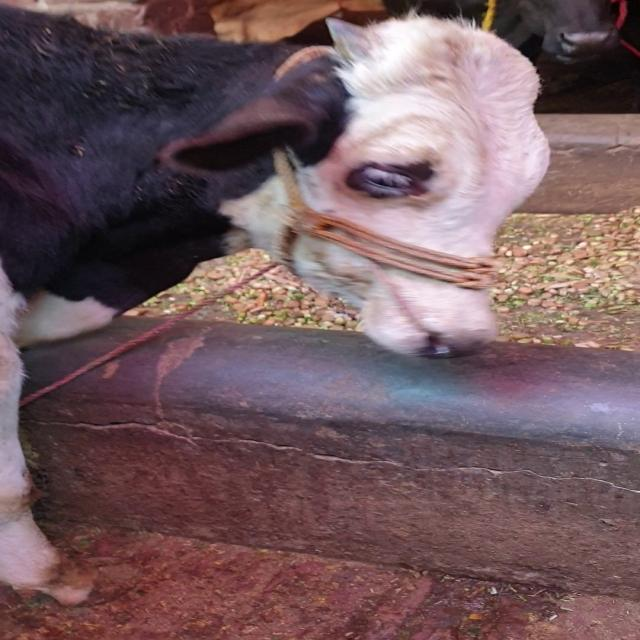cowFace: (311, 14, 557, 380)
